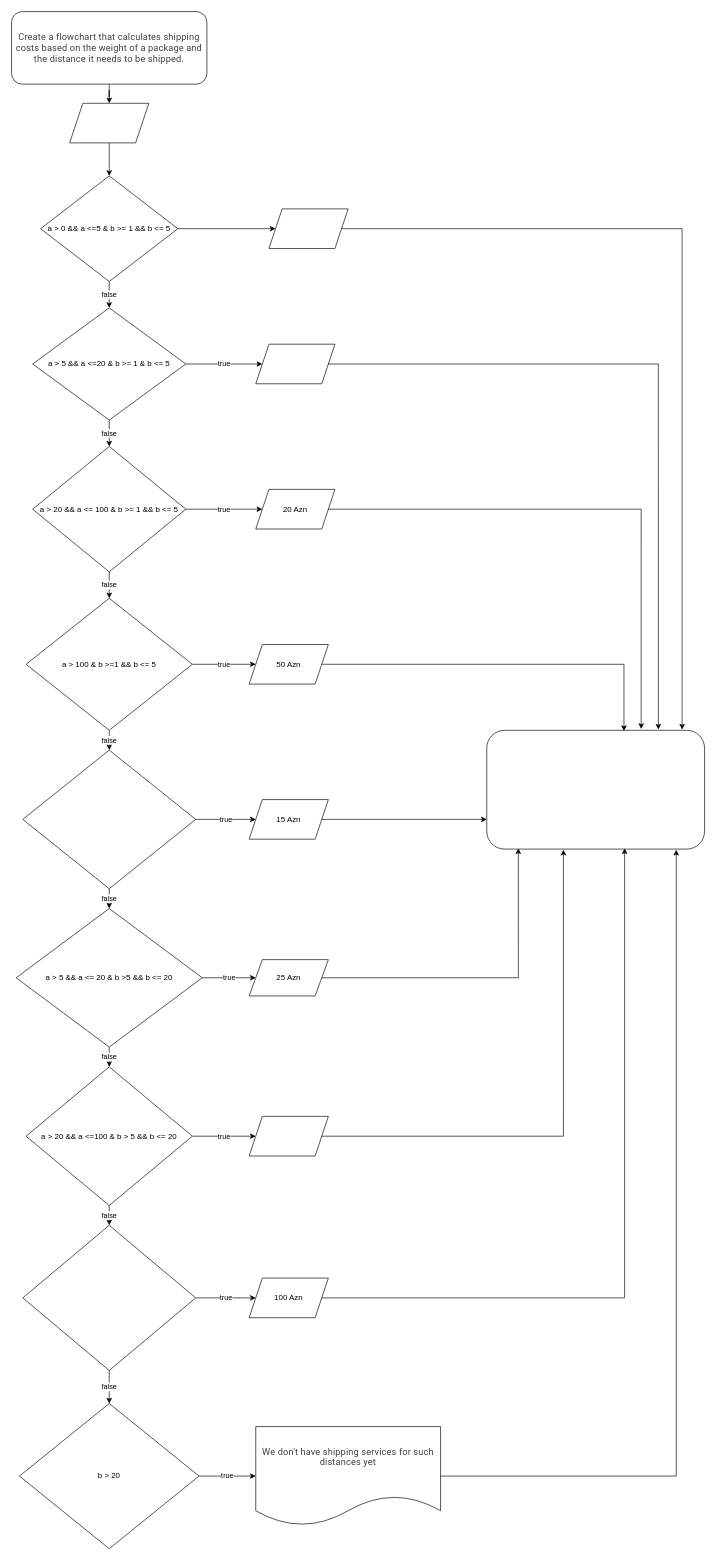
Image size: 716x1560. Some labels were removed from this diagram. The centre of each missing label's shape, as x and y in pixels:
"10 Azn" belongs at point 295,364.
"35 Azn" belongs at point 288,1136.
"5 Azn" belongs at point 308,228.
"a > 0 && a <=5 & b > 5 && b <= 20" belongs at point 109,819.
"a > 100 & b > 5 && b <= 20" belongs at point 109,1297.
"END" belongs at point 595,789.
"int a; int b;" belongs at point 109,123.
